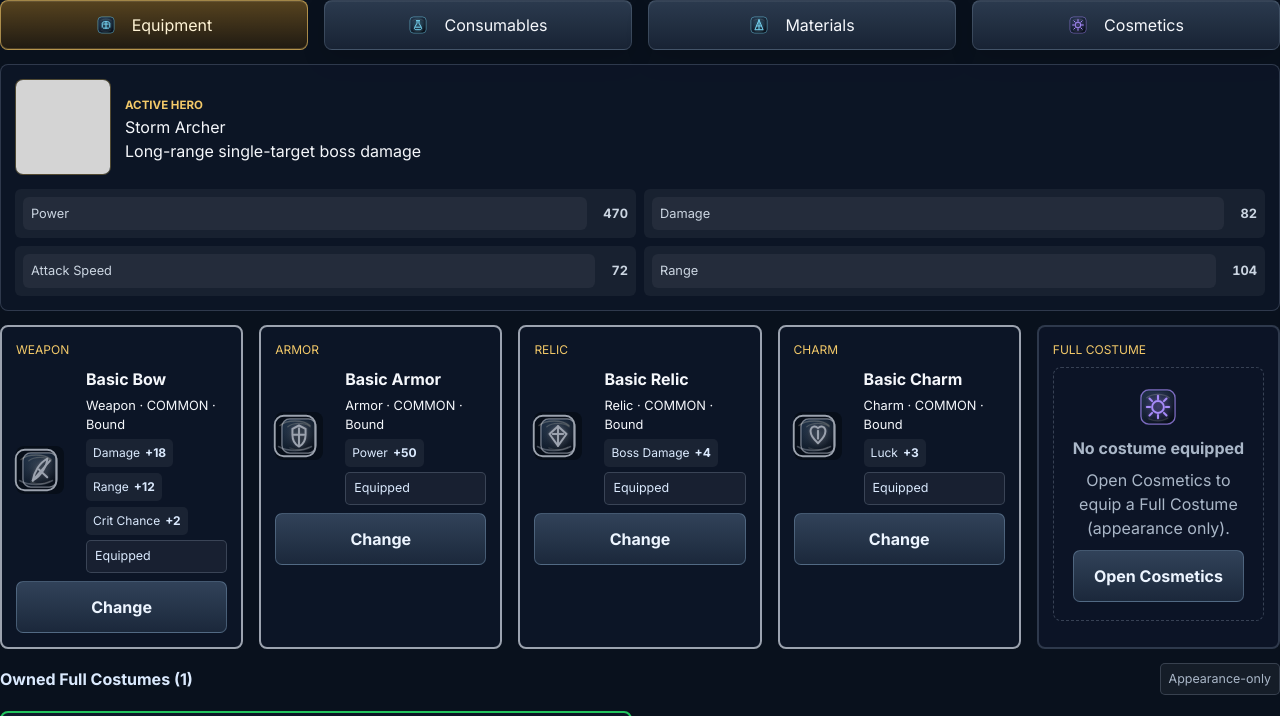
Test: InventoryPanel equipment swaps › filters replacements by exact slot, equips immediately, returns old item, and refreshes stat totals
The width and height of the screenshot is (1280, 716).
Expected: the text "Basic Bow" is shown, [86, 368, 166, 388]
Click the button "Change" below "Crit Chance".
click(122, 607)  # box [16, 581, 227, 633]
(page scrolled)
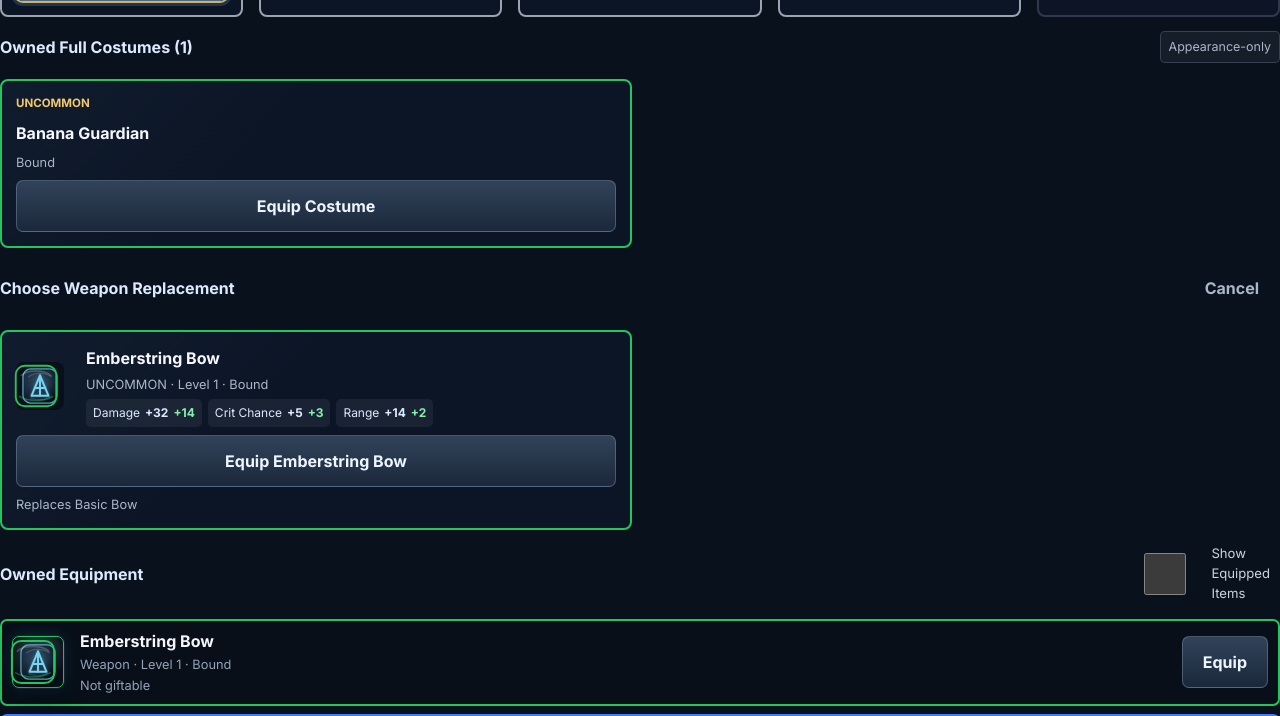
Expected: the text "Emberstring Bow" below "Choose" is shown, [86, 348, 220, 368]
Expected: the text with class "stat-positive" next to "32" reads "+14", [173, 405, 195, 420]
Click the button "Equip Emberstring Bow".
click(316, 461)  # box [16, 435, 616, 487]
(page scrolled)
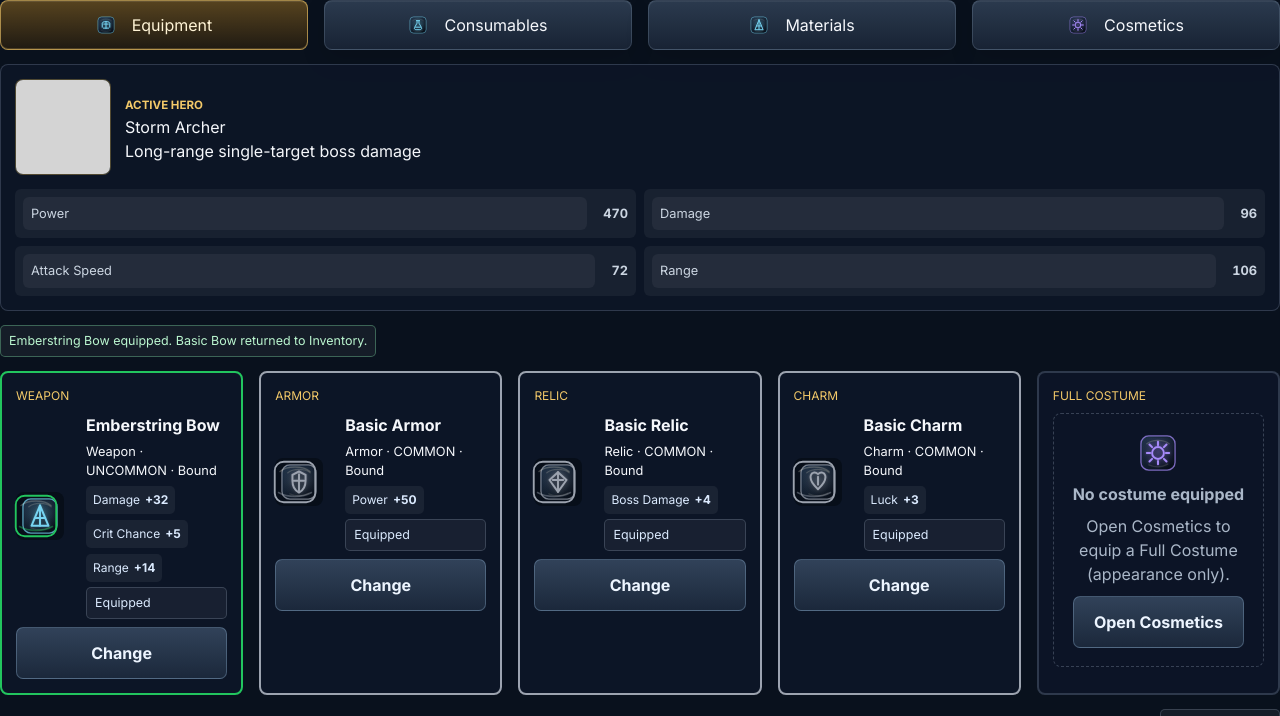
Expected: the text "Emberstring Bow equipped. Basic Bow returned to Inventory." is shown, [0, 324, 376, 357]
